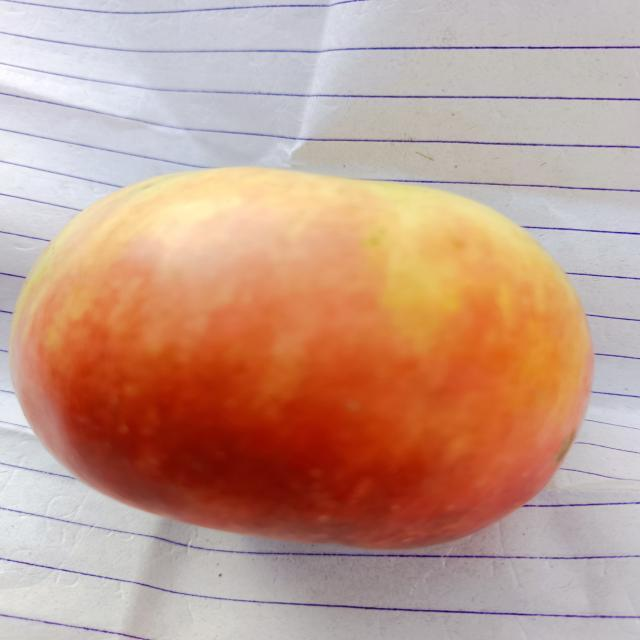Fresh Apple: (26, 178, 576, 544)
